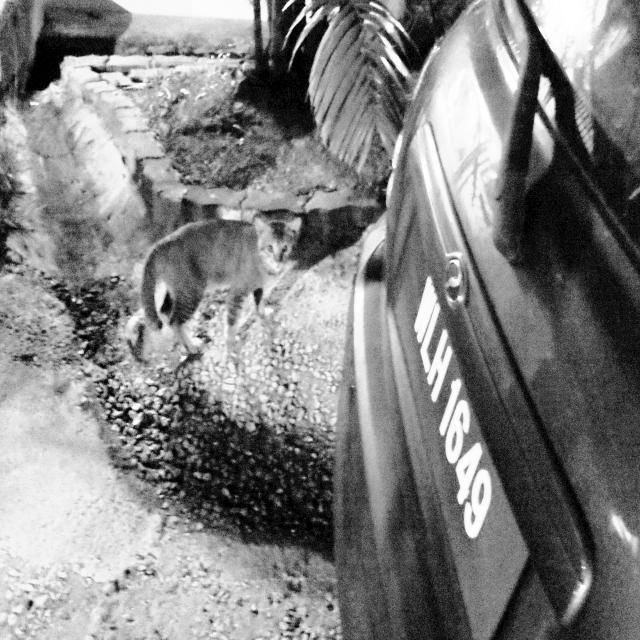Car: (342, 4, 640, 640)
Cat: (126, 214, 302, 360)
